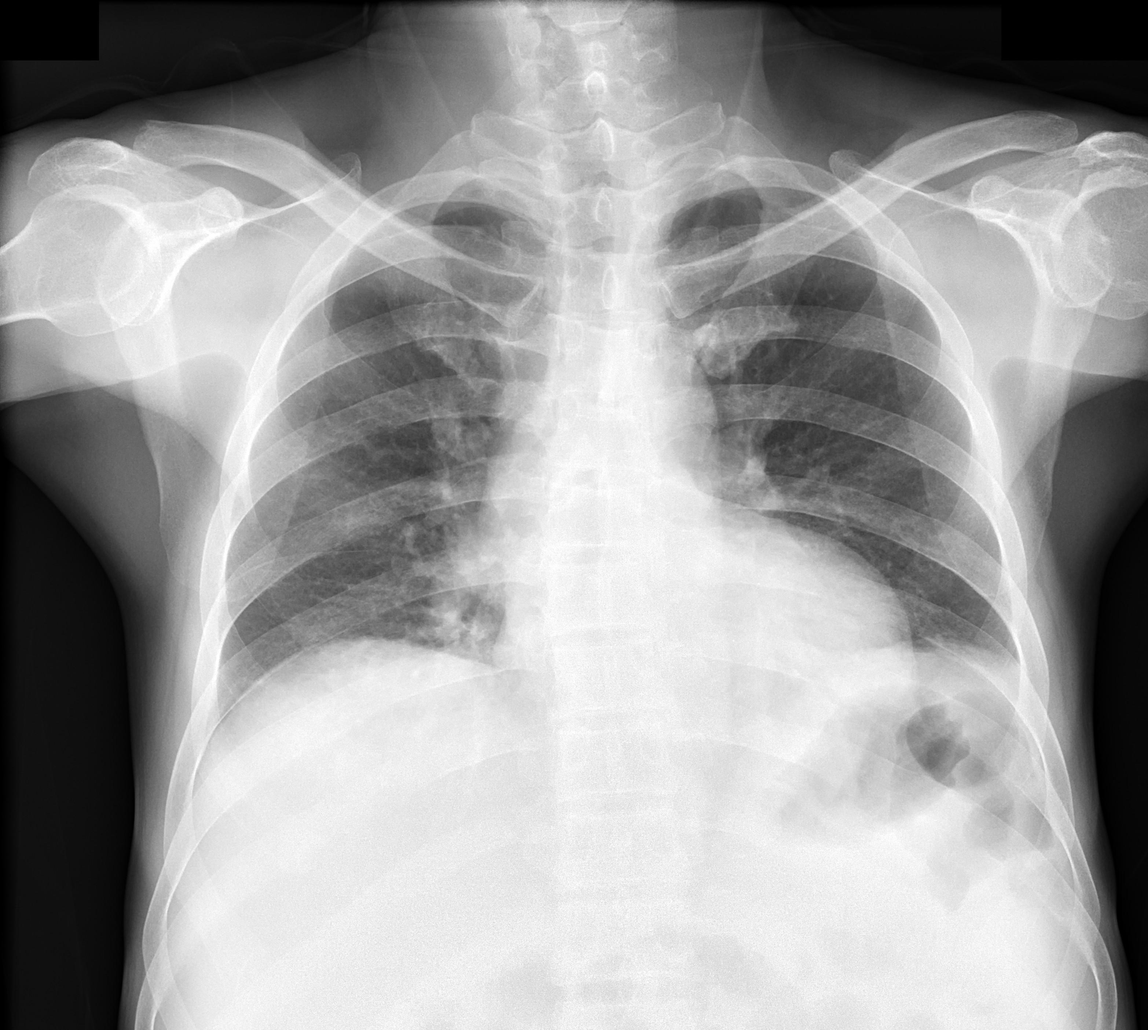Aortic enlargement: (472, 330, 728, 582)
Cardiomegaly: (491, 606, 921, 732)
Pleural thickening: (353, 179, 515, 236), (679, 170, 813, 212)
